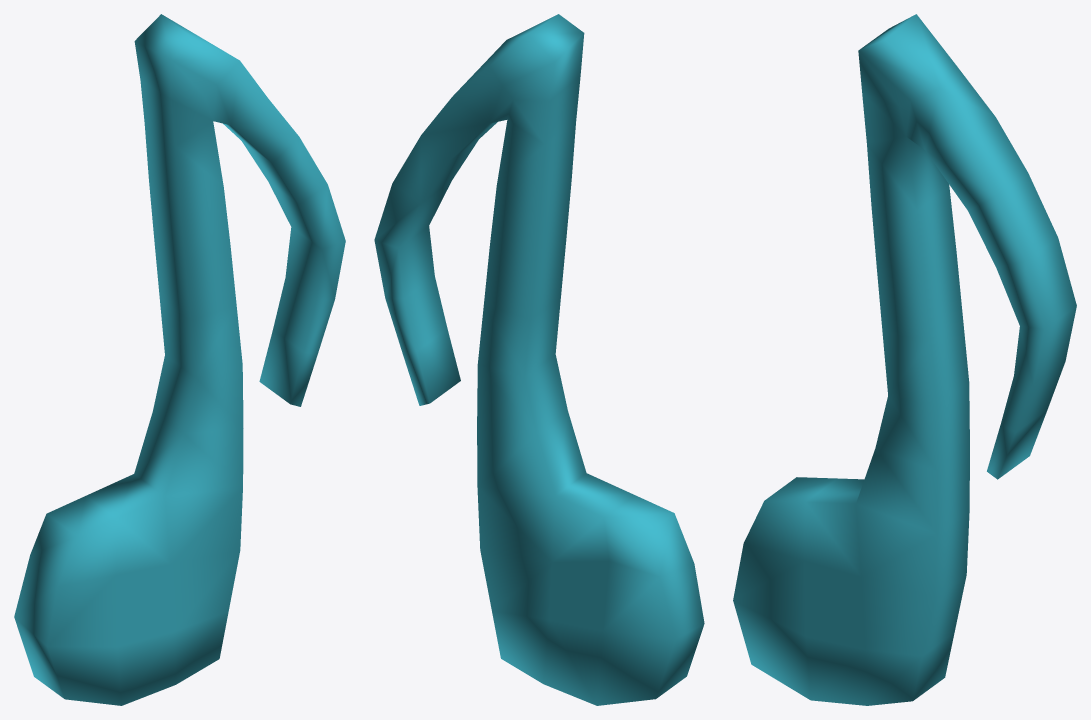
File: Key_03.fbx
The picture shows the model from 3 angles, left to right: view 1: azimuth 30°, elevation 25°; view 2: azimuth 150°, elevation 25°; view 3: azimuth 330°, elevation 25°; orthographic projection. The views are drawn at different scales.
Visible parts, largest first — view 1: Key_03; view 2: Key_03; view 3: Key_03.
Part boxes in pixels (x1=…): Key_03: x1=14, y1=14, x2=345, y2=705; Key_03: x1=374, y1=14, x2=704, y2=705; Key_03: x1=733, y1=14, x2=1076, y2=705.
Size of the model in its own units: 64.95 by 135 by 12.32.
